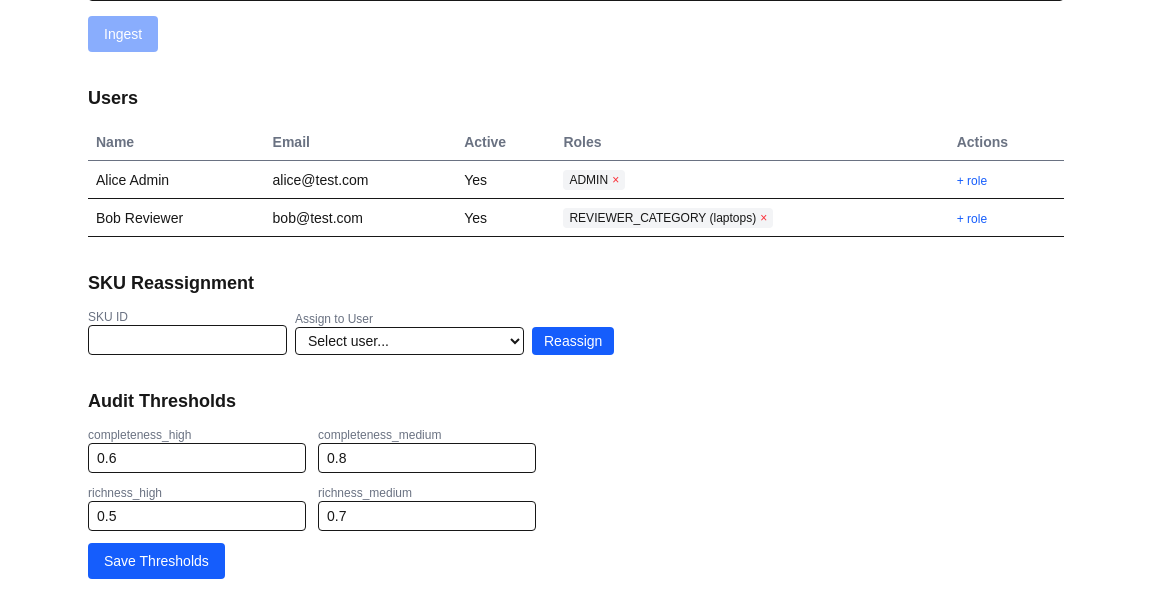
Scenario: Admin Panel › threshold save requires confirmation modal
(page scrolled)
Click the button "Save Thresholds": [156, 561] box [88, 543, 225, 579]
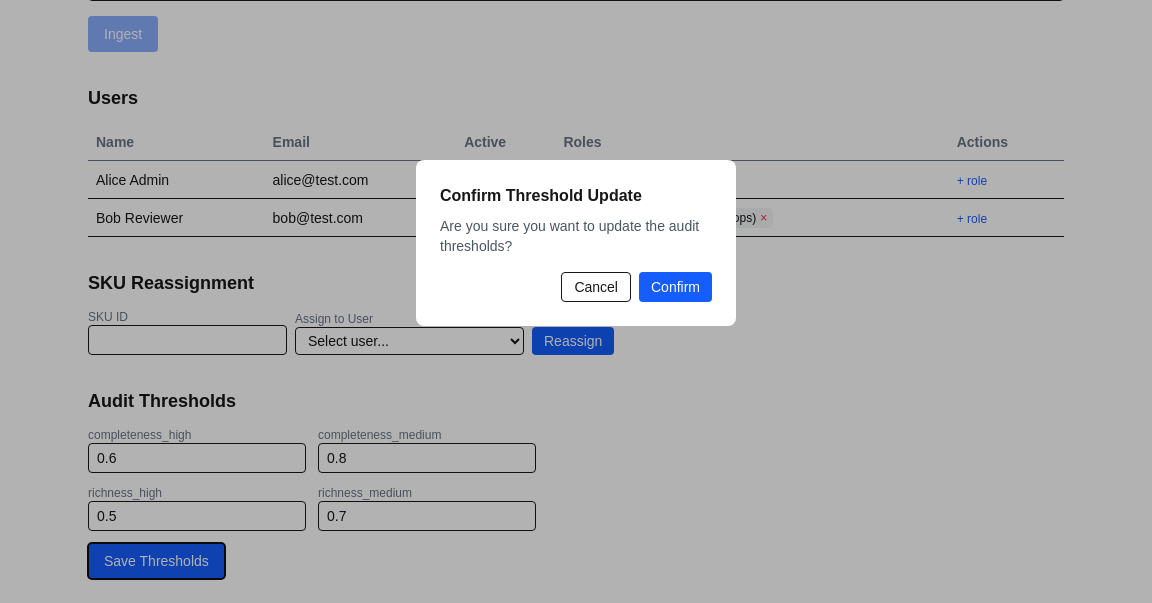
Result: the heading "Confirm Threshold Update" is shown at [440, 187, 642, 204]
Result: the button "Confirm" is shown at [639, 272, 712, 302]
Result: the button "Cancel" is shown at [561, 272, 631, 302]
